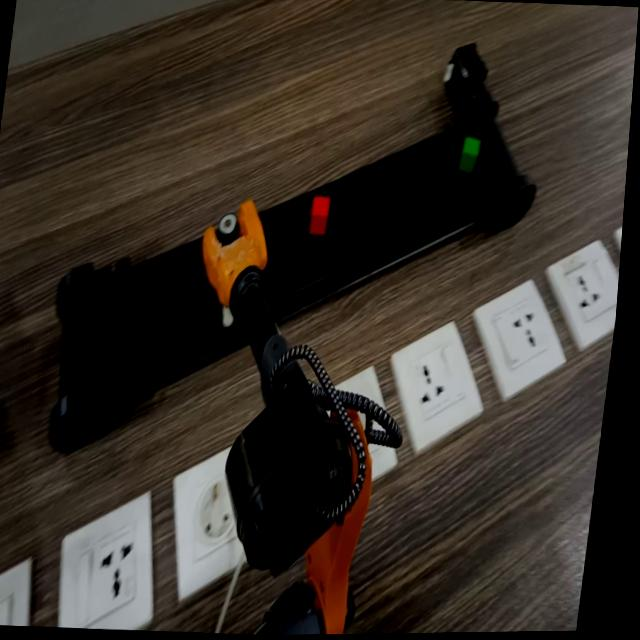cube: (454, 133, 493, 185), (309, 194, 342, 243)
